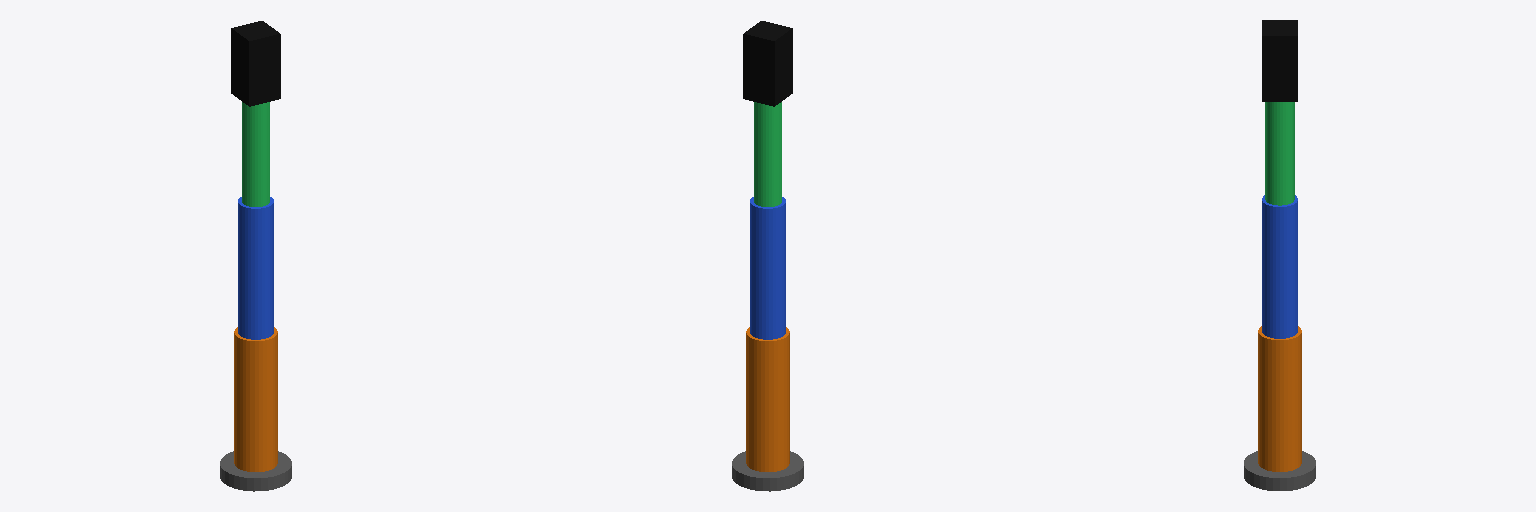
URDF robot description (lab05_test_robot):
<?xml version="1.0"?>
<robot name="lab05_test_robot">
  <!-- Simple 3-DoF arm for lab exploration -->
  <link name="base_link">
    <visual>
      <origin xyz="0 0 0" rpy="0 0 0"/>
      <geometry>
        <cylinder radius="0.05" length="0.02"/>
      </geometry>
      <material name="grey">
        <color rgba="0.4 0.4 0.4 1"/>
      </material>
    </visual>
  </link>

  <link name="shoulder_link">
    <visual>
      <origin xyz="0 0 0.1" rpy="0 0 0"/>
      <geometry>
        <cylinder radius="0.03" length="0.2"/>
      </geometry>
      <material name="orange">
        <color rgba="0.9 0.5 0.1 1"/>
      </material>
    </visual>
  </link>

  <link name="elbow_link">
    <visual>
      <origin xyz="0 0 0.1" rpy="0 0 0"/>
      <geometry>
        <cylinder radius="0.025" length="0.2"/>
      </geometry>
      <material name="blue">
        <color rgba="0.2 0.4 0.9 1"/>
      </material>
    </visual>
  </link>

  <link name="wrist_link">
    <visual>
      <origin xyz="0 0 0.08" rpy="0 0 0"/>
      <geometry>
        <cylinder radius="0.02" length="0.16"/>
      </geometry>
      <material name="green">
        <color rgba="0.2 0.8 0.4 1"/>
      </material>
    </visual>
  </link>

  <link name="tool_link">
    <visual>
      <origin xyz="0 0 0.05" rpy="0 0 0"/>
      <geometry>
        <box size="0.05 0.05 0.1"/>
      </geometry>
      <material name="black">
        <color rgba="0.1 0.1 0.1 1"/>
      </material>
    </visual>
  </link>

  <joint name="shoulder_joint" type="revolute">
    <parent link="base_link"/>
    <child link="shoulder_link"/>
    <origin xyz="0 0 0.01" rpy="0 0 0"/>
    <axis xyz="0 0 1"/>
    <limit lower="-1.57" upper="1.57" effort="10" velocity="1.5"/>
  </joint>

  <joint name="elbow_joint" type="revolute">
    <parent link="shoulder_link"/>
    <child link="elbow_link"/>
    <origin xyz="0 0 0.2" rpy="0 0 0"/>
    <axis xyz="0 1 0"/>
    <limit lower="-2.0" upper="2.0" effort="8" velocity="1.5"/>
  </joint>

  <joint name="wrist_joint" type="revolute">
    <parent link="elbow_link"/>
    <child link="wrist_link"/>
    <origin xyz="0 0 0.2" rpy="0 0 0"/>
    <axis xyz="0 1 0"/>
    <limit lower="-2.5" upper="2.5" effort="6" velocity="2.0"/>
  </joint>

  <joint name="tool_joint" type="fixed">
    <parent link="wrist_link"/>
    <child link="tool_link"/>
    <origin xyz="0 0 0.16" rpy="0 0 0"/>
  </joint>
</robot>

--- What the picture shows (computed from the rendered views, not written in the file) ---
The picture shows the robot from 3 angles, left to right: view 1: azimuth 30°, elevation 25°; view 2: azimuth 150°, elevation 25°; view 3: azimuth 270°, elevation 25°; orthographic projection.
Robot: lab05_test_robot — 5 links, 4 joints (3 revolute, 1 fixed); root link base_link; default pose: every joint at zero.
Visible links, largest first — view 1: shoulder_link, elbow_link, tool_link, wrist_link, base_link; view 2: shoulder_link, elbow_link, tool_link, wrist_link, base_link; view 3: shoulder_link, elbow_link, wrist_link, tool_link, base_link.
Link boxes in pixels (x1,y1,x2,y2): shoulder_link: (234,327,277,471); elbow_link: (238,197,273,339); tool_link: (231,21,280,106); wrist_link: (242,102,269,206); base_link: (220,451,291,491); shoulder_link: (746,327,789,471); elbow_link: (750,197,785,339); tool_link: (743,21,792,106); wrist_link: (754,102,781,206); base_link: (732,451,803,491); shoulder_link: (1258,326,1301,471); elbow_link: (1262,195,1297,338); wrist_link: (1265,102,1294,205); tool_link: (1262,20,1297,101); base_link: (1244,451,1315,490).
Size in the robot's own frame: 0.1 by 0.1 by 0.68 metres.
Geometry: primitives only (box / cylinder / sphere), no mesh files.
